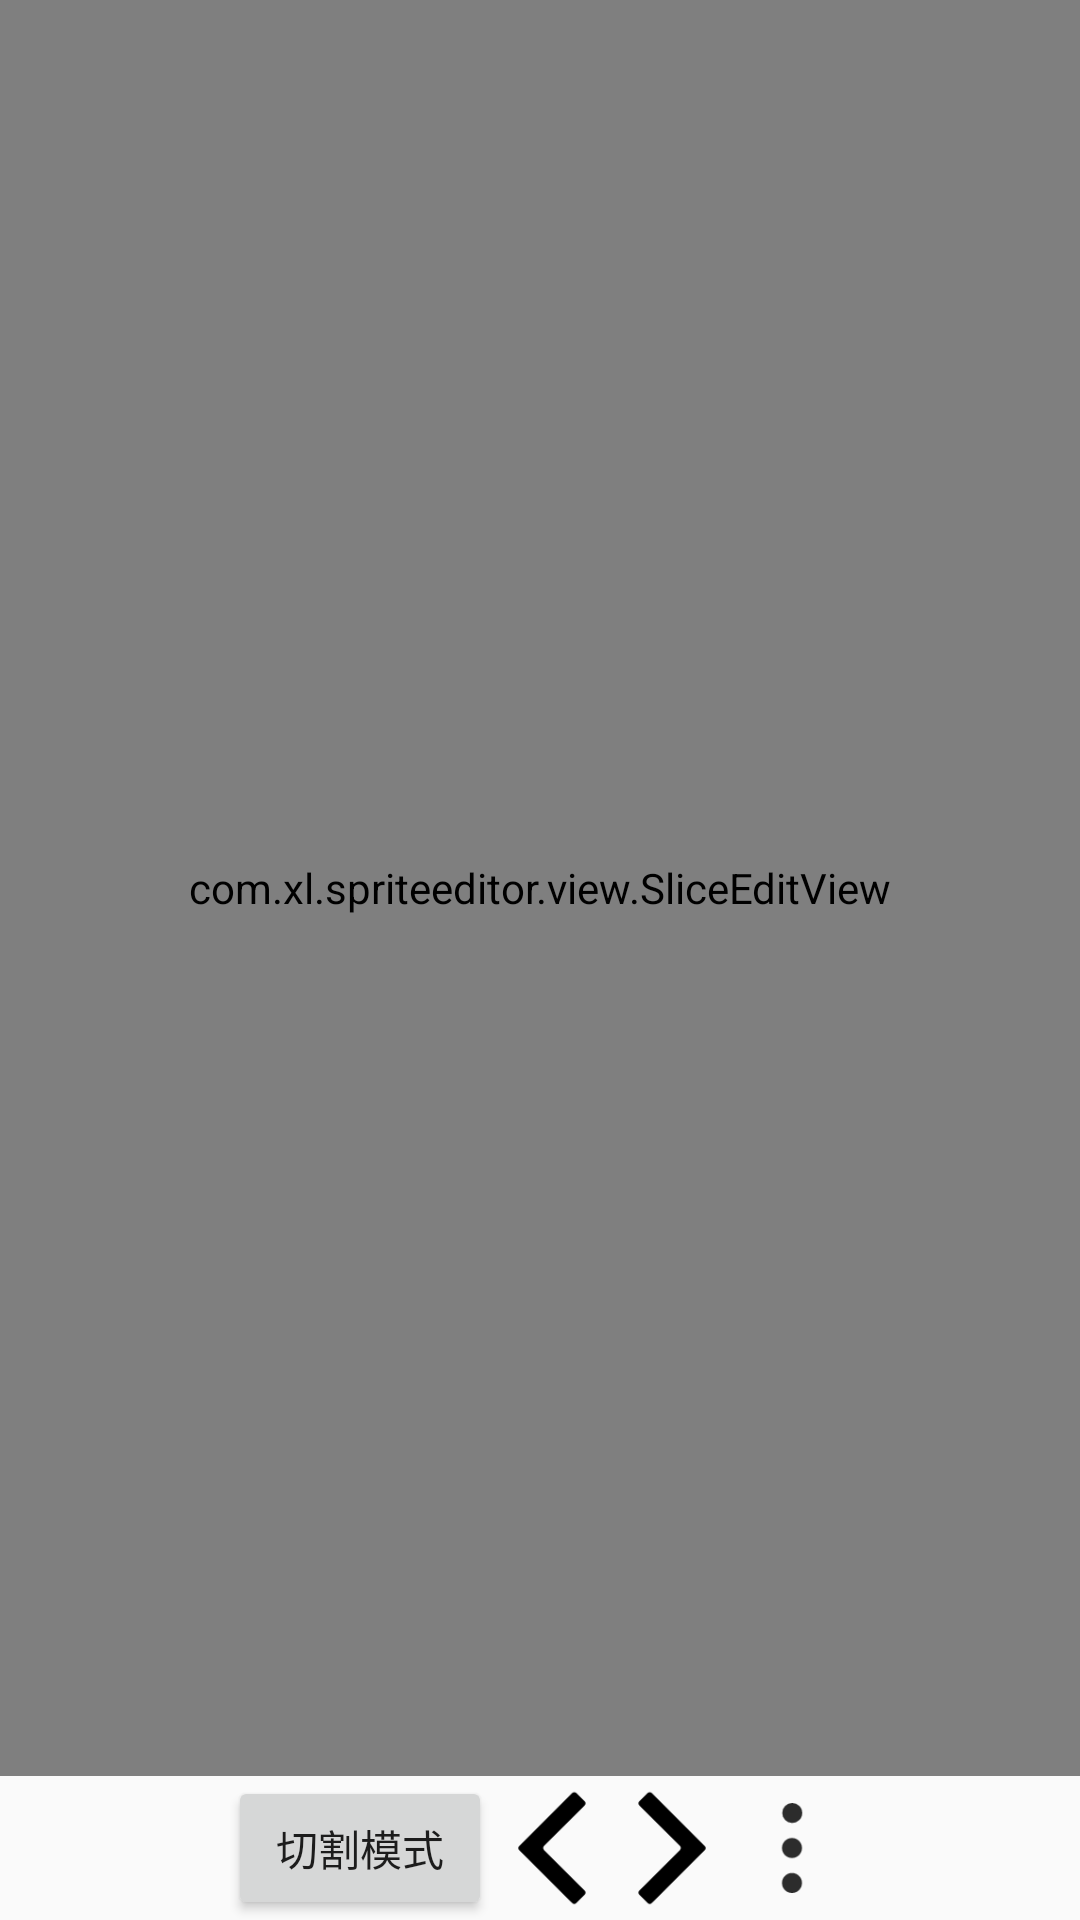

Where to tap for icons on this 1080px×1920px app screen, as [x,y]:
more: [792,1848]
next: [672,1848]
